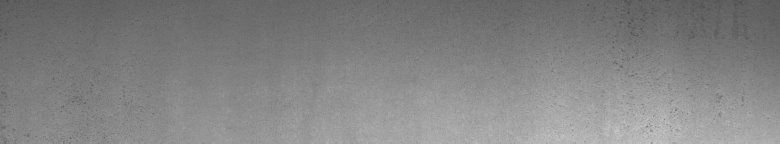ib: (613, 28, 723, 132)
